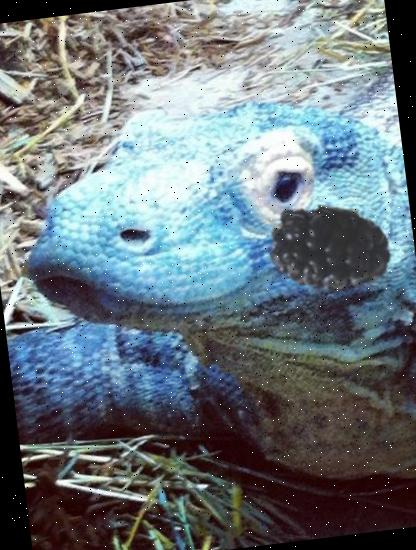Mulberry: (251, 189, 399, 337)
